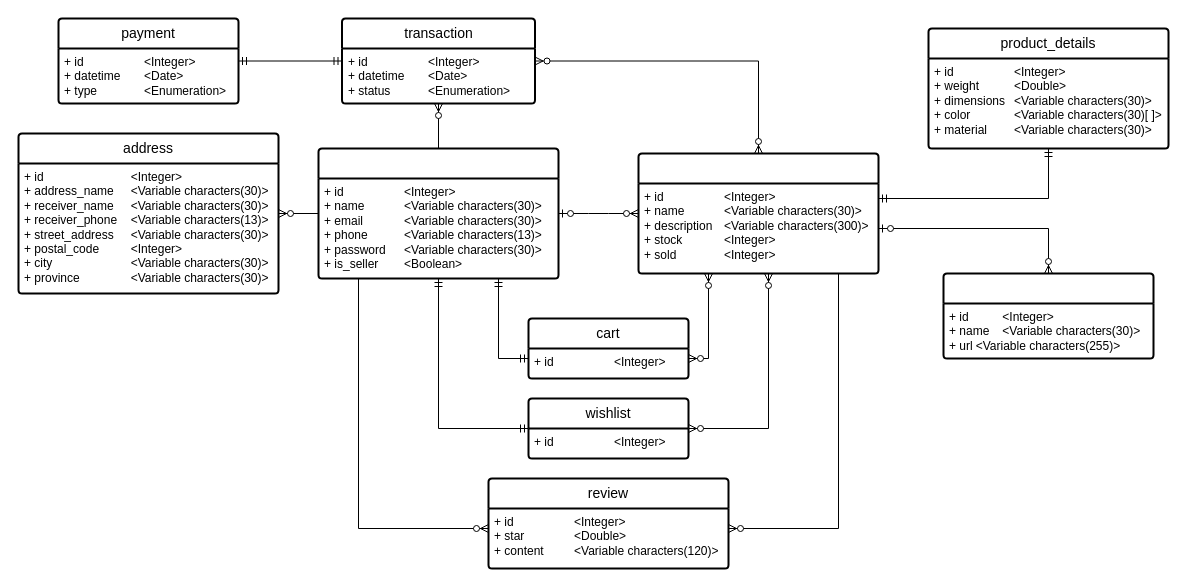
Some shapes in this 1186 by 586 pixel diagram are drawn without their labels. Here are the shapes that lost their labels. From the top down, the box of each, then its label:
(317, 147, 559, 279): user
(637, 152, 879, 274): product
(942, 272, 1154, 359): image
